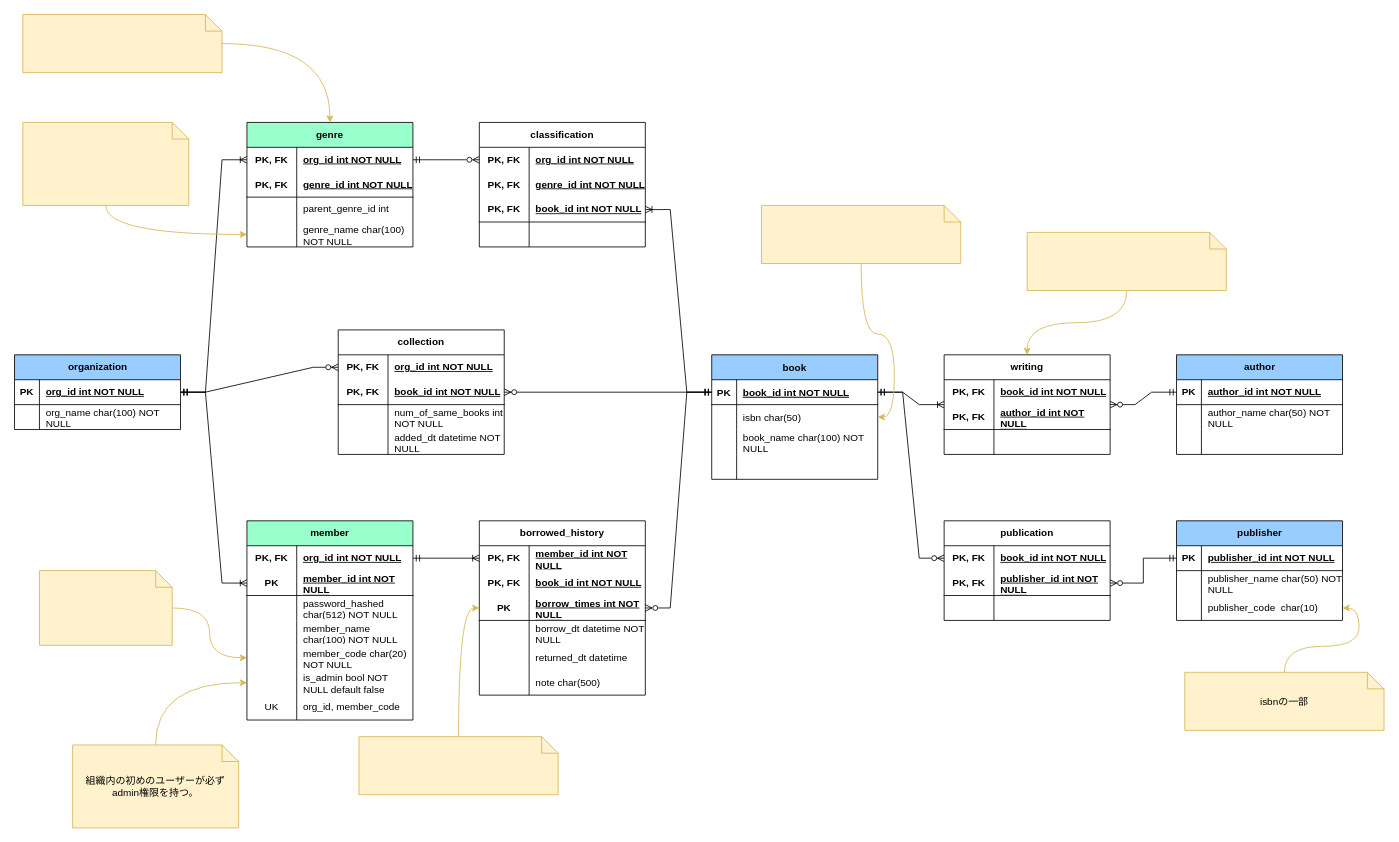
The diagram is 1399 pixels wide and 842 high, and some of its shapes have lost their labels. Here are the shapes that lost their labels. From the top down, the centre of each, then its label:
the point at 122,43: 組織ごとに定義。 多階層。 トップはparent_genre_id is null
the point at 105,163: 「分類なし」を必ず作る。 デフォルトは「分類なし」にのみ所属。
the point at 861,234: ISBNがない、冊子のようなものを登録したくなることがある
the point at 1126,261: 共著があるから、１冊の本に対して複数のauthorをつけられるようにしてある
the point at 105,607: member_codeは、ログインで使用する
the point at 458,765: 複数回借りた場合は、borrow_timesを加算していく
